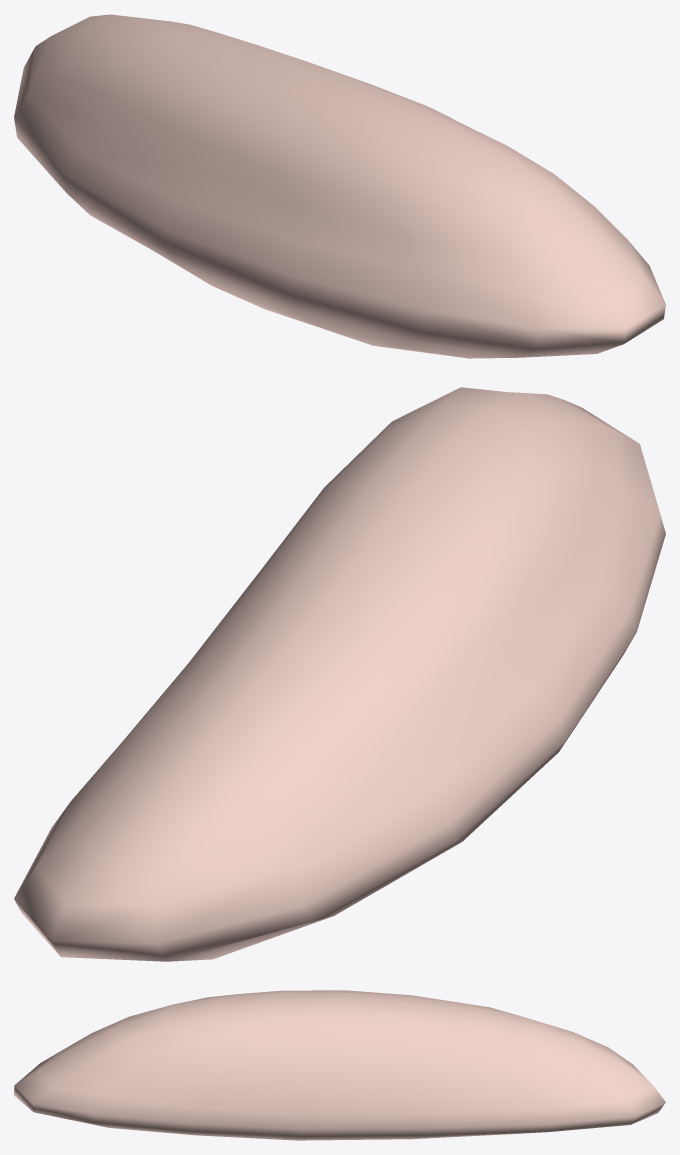
Rendered from JatrovyKnedlicek.fbx.
3 views of the same model, one above another, from view 1: azimuth 30°, elevation 25°; view 2: azimuth 150°, elevation 25°; view 3: azimuth 270°, elevation 25° (orthographic). The views are drawn at different scales.
Visible parts, largest first — view 1: JatrovyKnedlicek; view 2: JatrovyKnedlicek; view 3: JatrovyKnedlicek.
Part boxes in pixels (box(x1,y1,x2,y2)): JatrovyKnedlicek: box(14, 14, 665, 358); JatrovyKnedlicek: box(14, 387, 665, 961); JatrovyKnedlicek: box(14, 990, 665, 1140).
Size of the model in its own units: 0.331 by 0.2116 by 0.9004.
